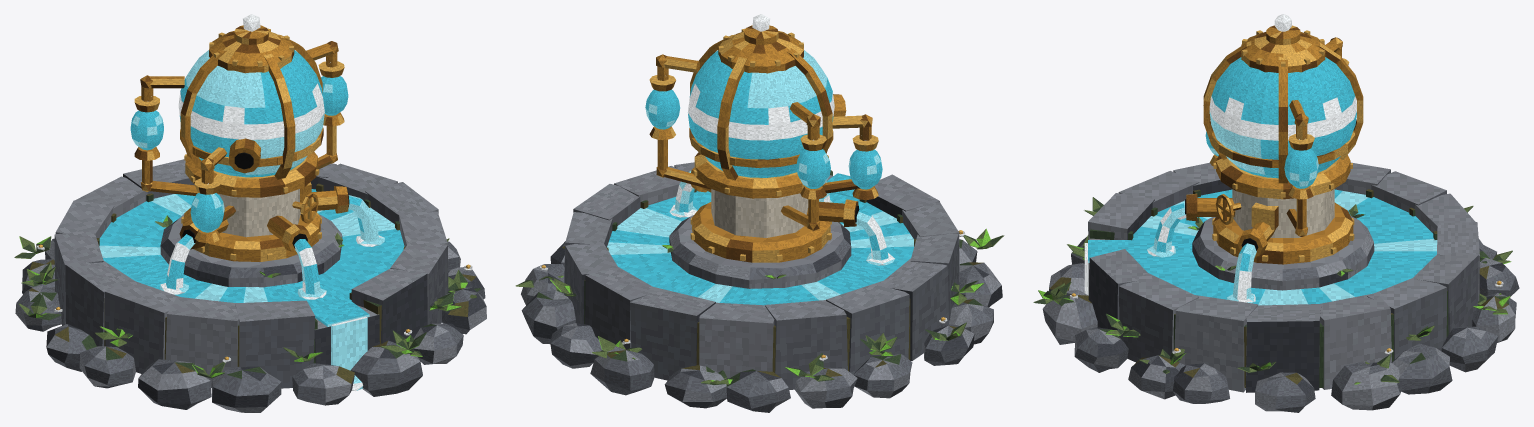
Rendered from fountain_rain.glb.
3 views of the same model, side by side, from view 1: azimuth 30°, elevation 25°; view 2: azimuth 150°, elevation 25°; view 3: azimuth 270°, elevation 25° (orthographic).
Visible parts, largest first — view 1: fountain_rain; view 2: fountain_rain; view 3: fountain_rain.
Boxes of the visible parts, x1,y1,x2,y2 form: fountain_rain: (14, 14, 486, 412); fountain_rain: (515, 14, 1004, 412); fountain_rain: (1033, 14, 1519, 412).
Bounding box in the file's own units: 3.62 × 2.54 × 3.61.
Materials: 2 (2 with a texture image).
